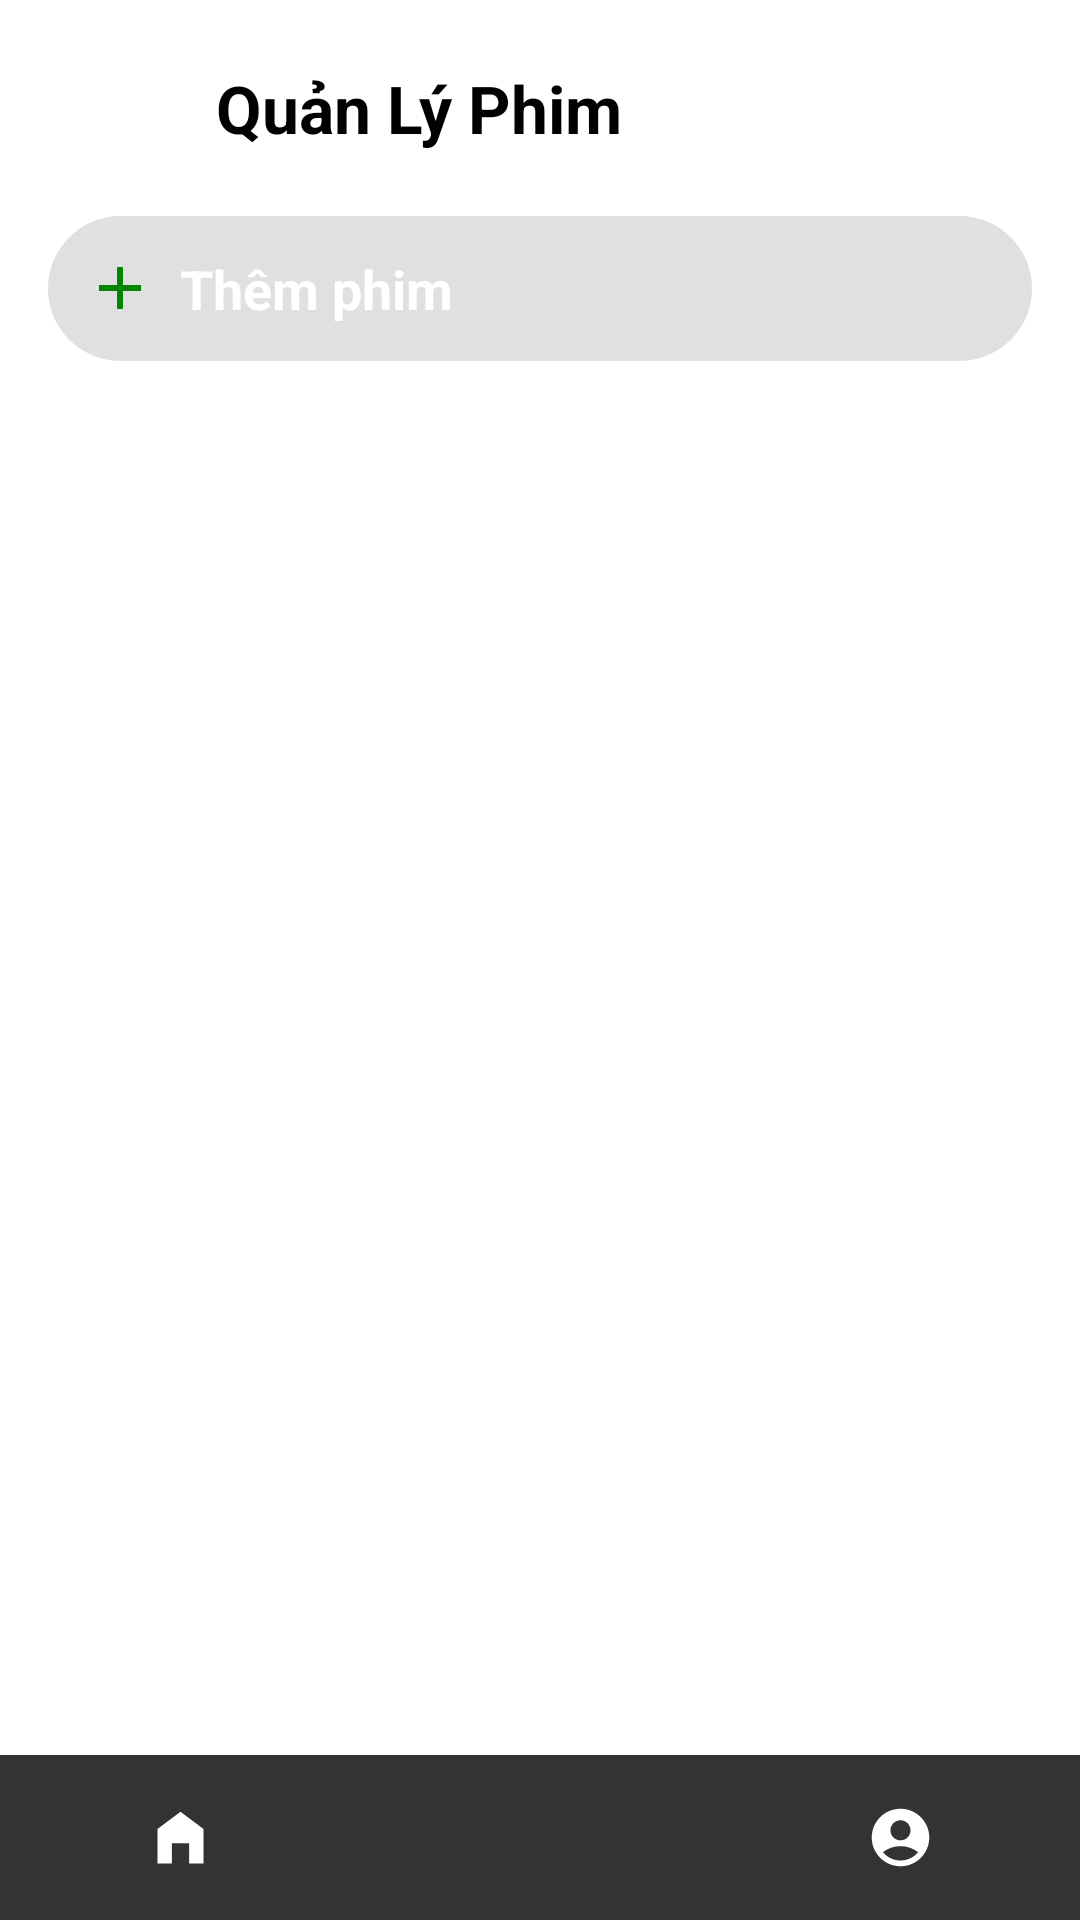

Where icons sit on this 1080 × 1920 app screen, as bbox(x1, y1, x2, y2):
accout: bbox(871, 1808, 930, 1867)
Add Movie: bbox(99, 267, 141, 309)
home: bbox(157, 1812, 204, 1864)
